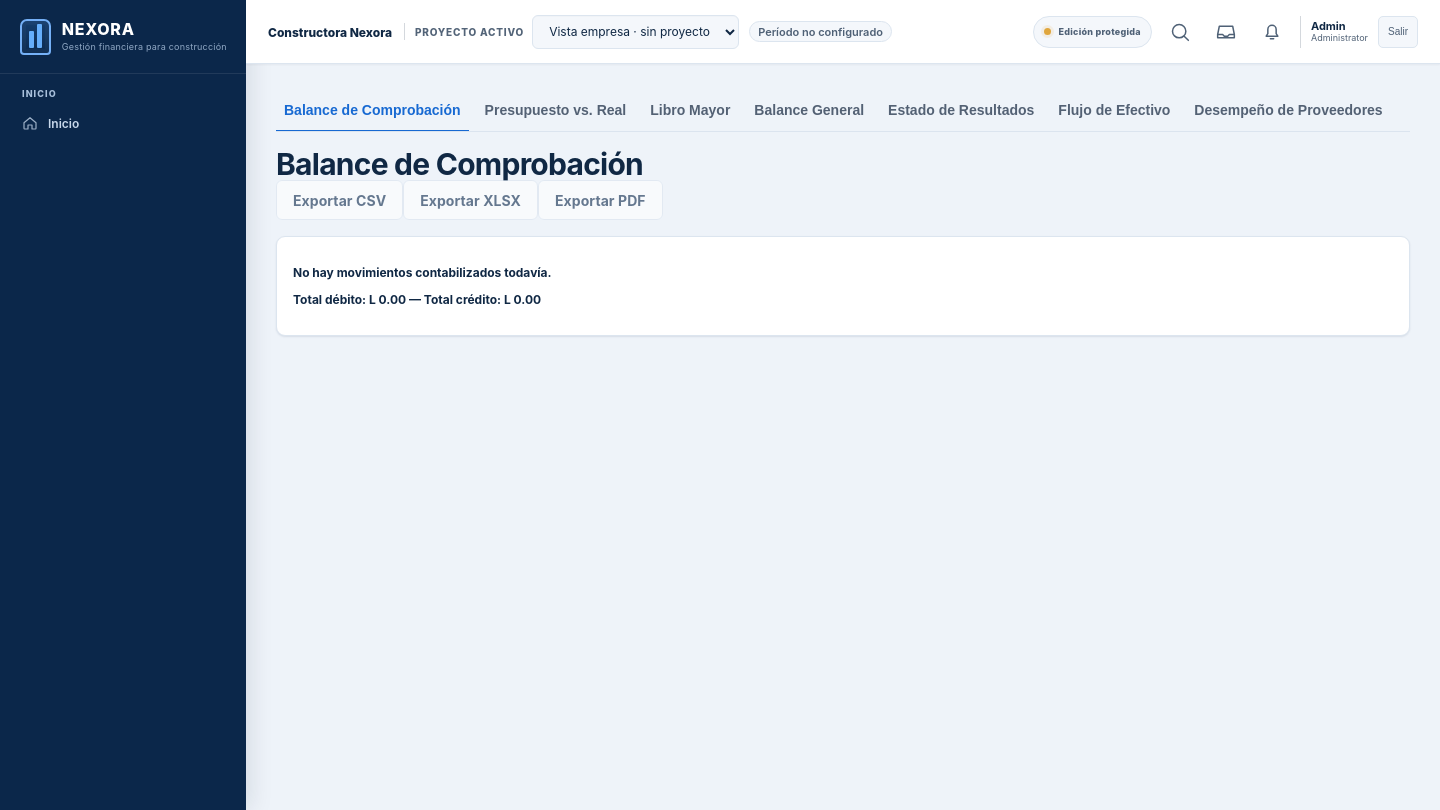
Test: GeneralLedgerPage › disables Previous at the first page
This screenshot has width=1440, height=810.
What coordinates should you click on to do the following:
click the tab "Libro Mayor"
I would click on:
 (690, 111)
Its box is [642,90,738,132].
(page scrolled)
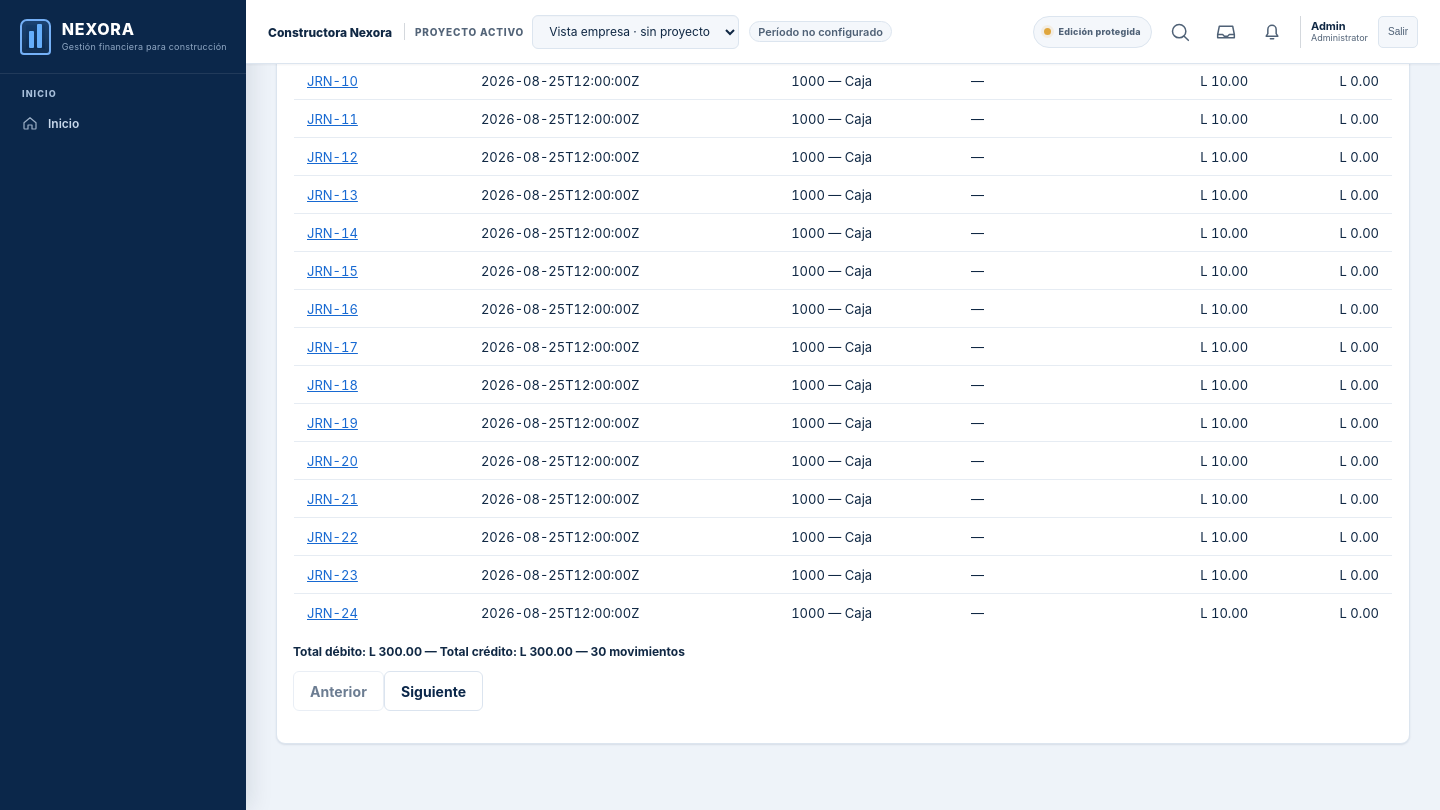
Expected: the button "Anterior" is disabled, [293,671,384,711]
